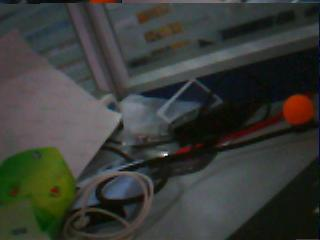oball: (281, 95, 312, 122)
